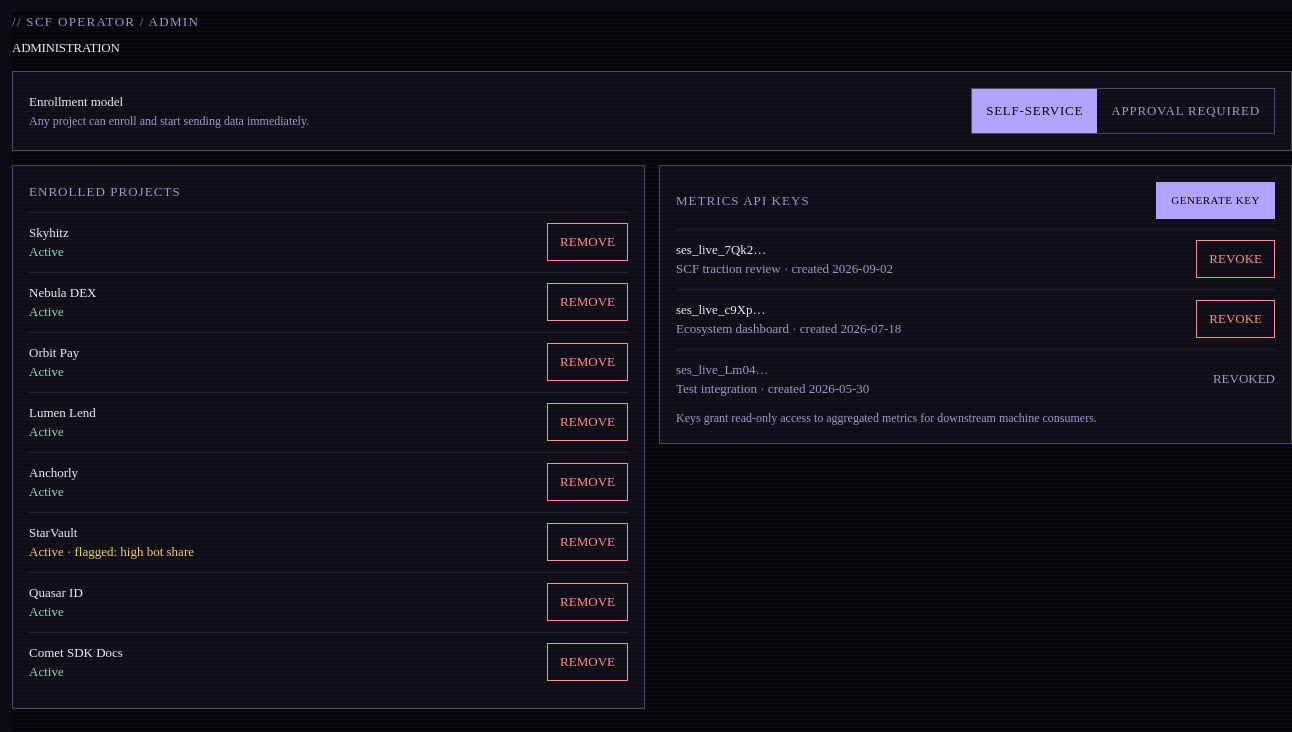
Test case: AdminScreen › asks before removing a project
Step 1. Click the button with aria-label "Remove Nebula DEX" → coordinates (588, 302), box [547, 283, 628, 321]
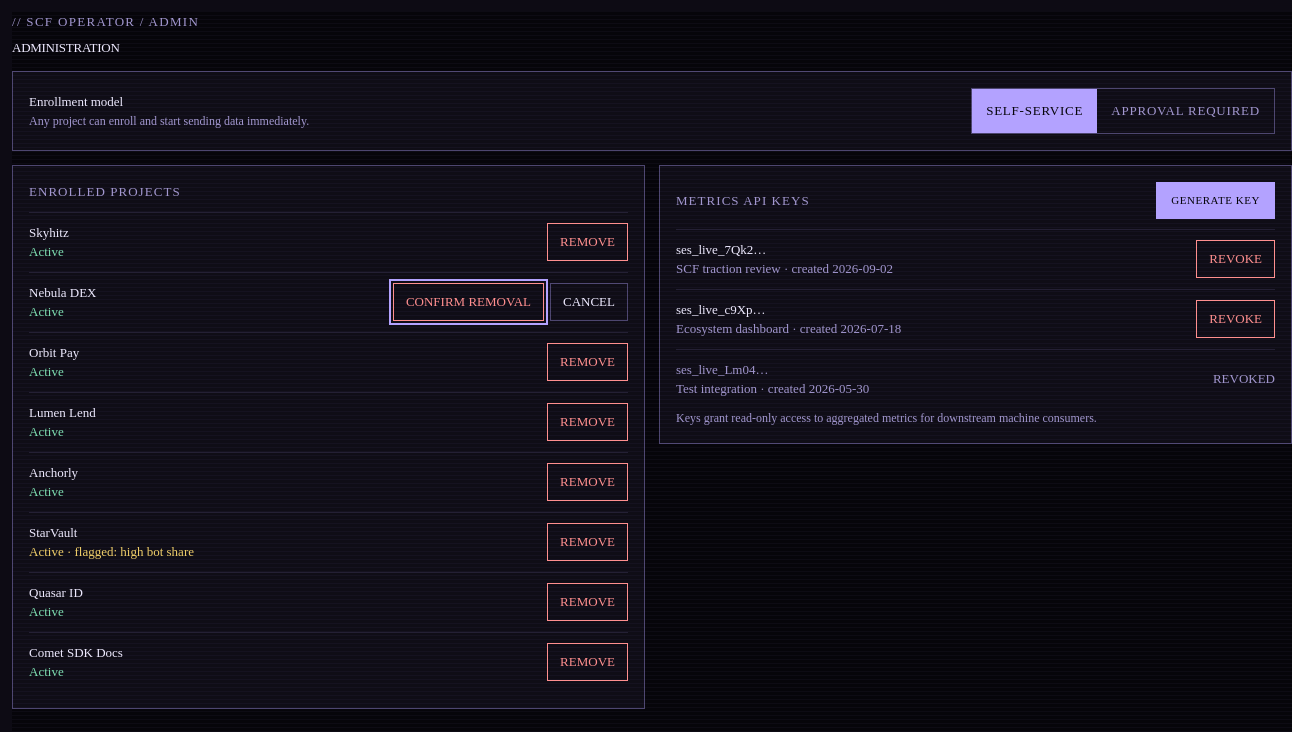
Result: the button with aria-label "Confirm removal of Nebula DEX" is shown at [393, 283, 544, 321]
Step 2. Click the button "Cancel" → coordinates (589, 302), box [550, 283, 628, 321]
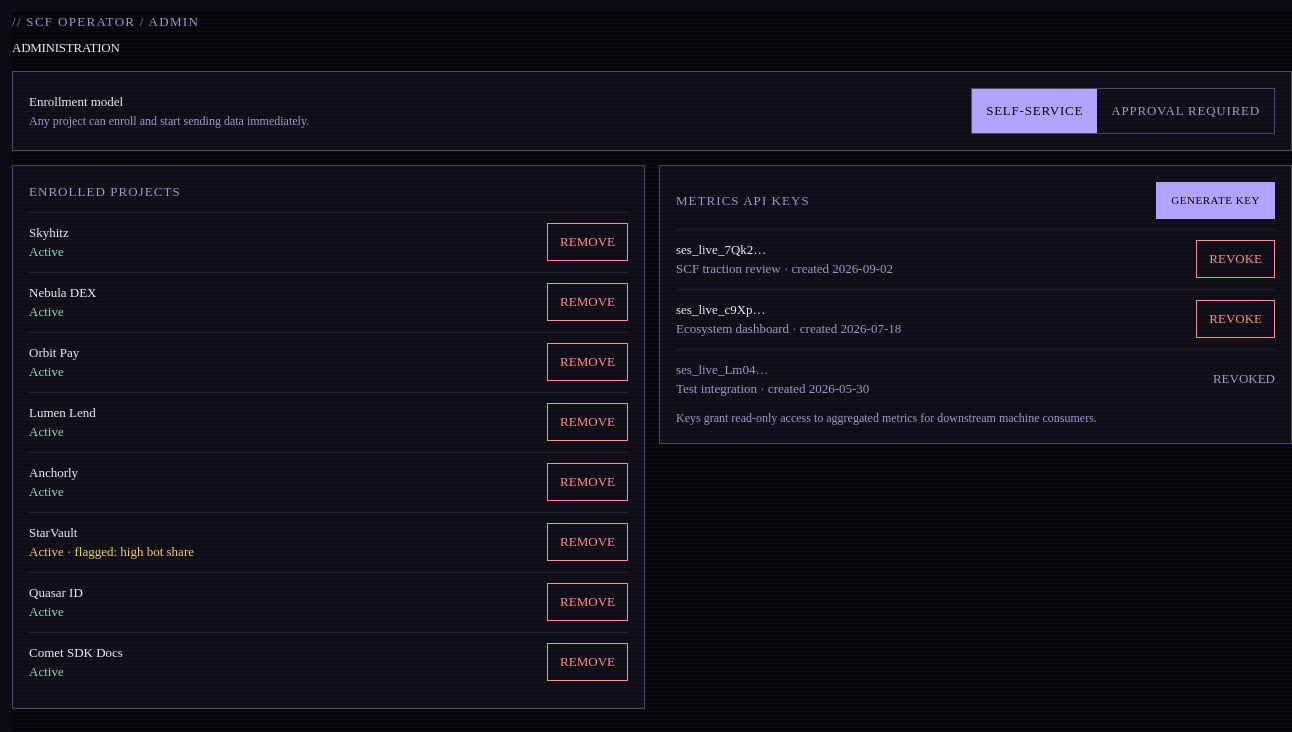
Result: the button with aria-label "Remove Nebula DEX" is shown at [547, 283, 628, 321]
